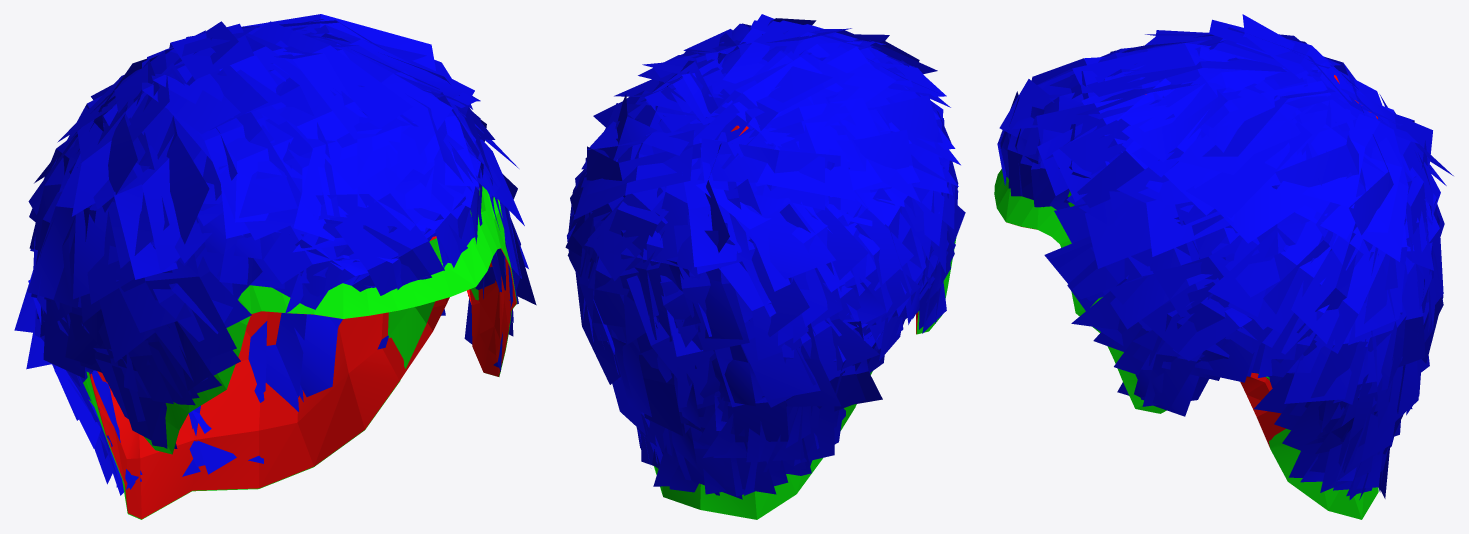
Rendered from hair_010.obj.
3 renders of one model, left to right at view 1: azimuth 30°, elevation 25°; view 2: azimuth 150°, elevation 25°; view 3: azimuth 270°, elevation 25°, orthographic. The views are drawn at different scales.
Bounding box in the file's own units: 18.22 × 21.06 × 19.38.
